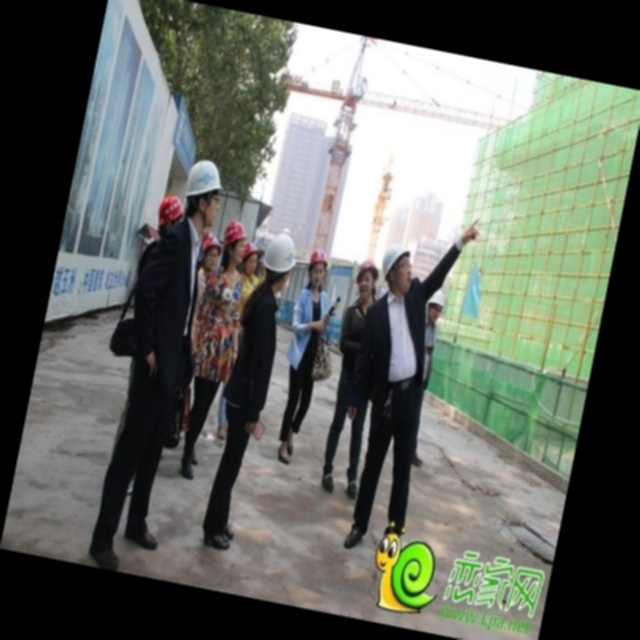Con_Casco: (182, 158, 227, 226), (259, 232, 301, 293), (376, 240, 418, 296)
